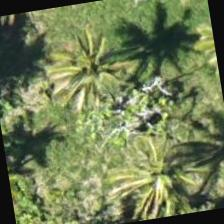Kelapa_Sawit: (36, 20, 139, 123), (92, 129, 196, 223)
